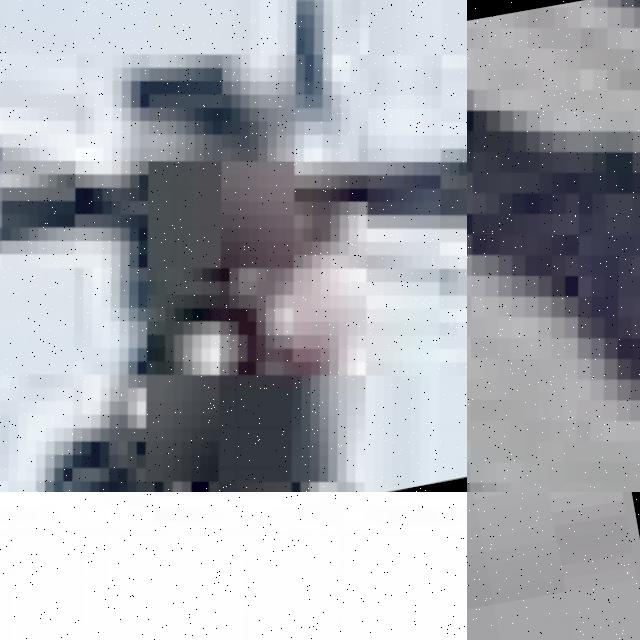0: (0, 0, 467, 492)
drone: (467, 0, 640, 492), (0, 492, 467, 640)
